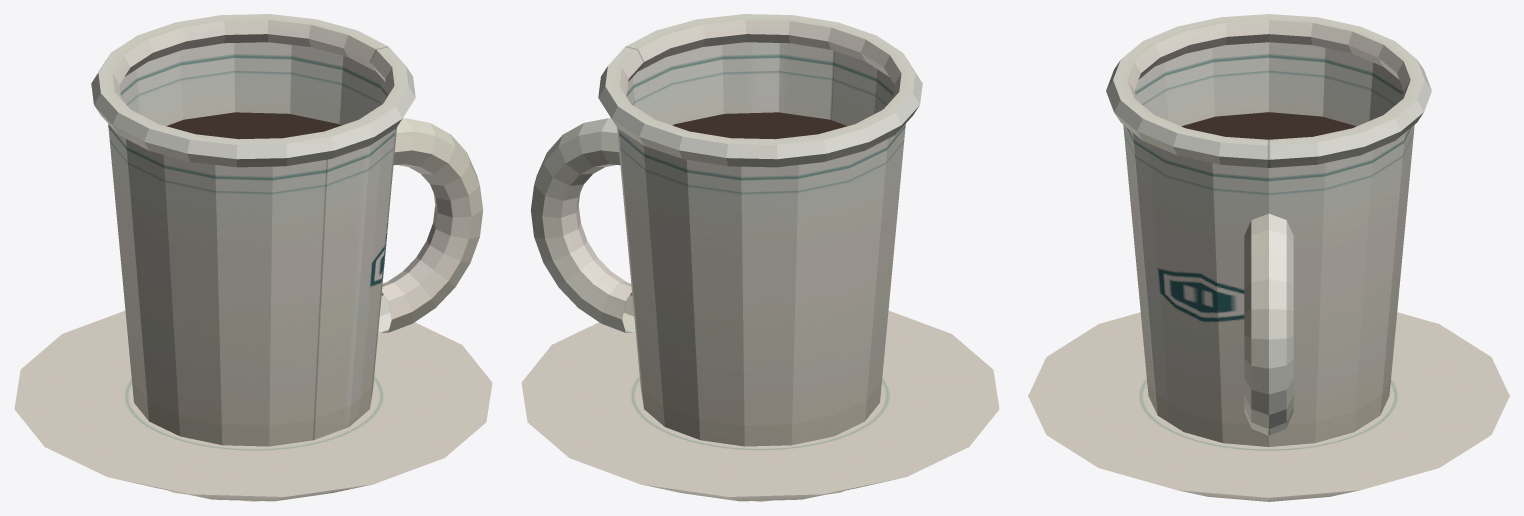
File: coffee-cup.glb
3 views of the same model, side by side, from view 1: azimuth 30°, elevation 25°; view 2: azimuth 150°, elevation 25°; view 3: azimuth 270°, elevation 25° (orthographic).
Parts seen in each view (by area): view 1: coffee-cup-mesh; view 2: coffee-cup-mesh; view 3: coffee-cup-mesh.
Boxes of the visible parts, <box> form: coffee-cup-mesh: <box>14,14,492,501</box>; coffee-cup-mesh: <box>521,14,999,501</box>; coffee-cup-mesh: <box>1028,14,1509,501</box>.
Size of the model in its own units: 0.142 by 0.1105 by 0.136.
Materials: 1 (1 with a texture image).
